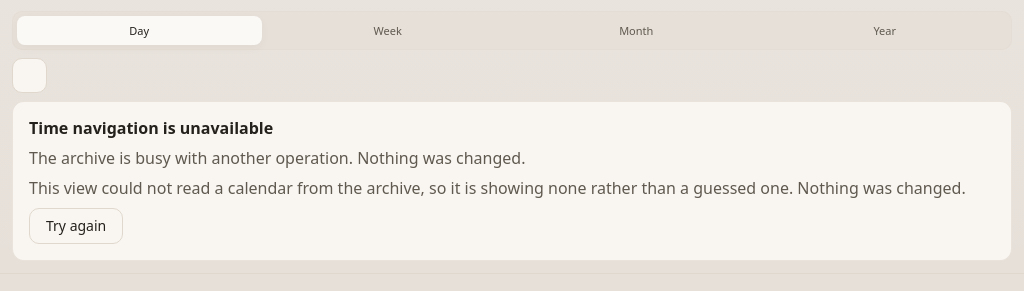
Test: when time navigation is unavailable › offers a retry only when the core says the request may be repeated
Click the button "Try again": point(76, 226) left=29, top=208, right=123, bottom=244
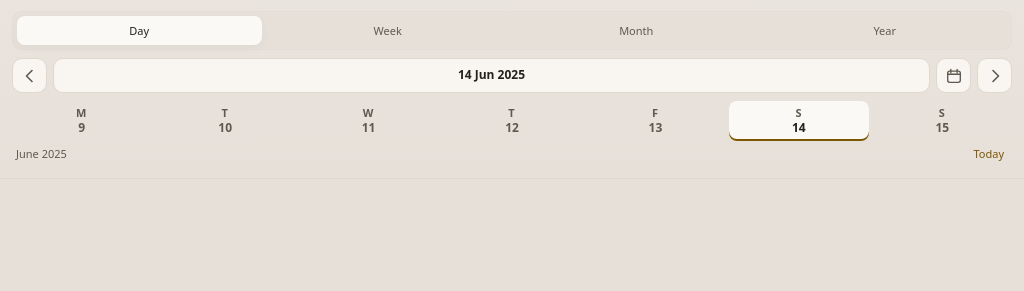
Expected: the heading "Time navigation is unavailable" is gone
